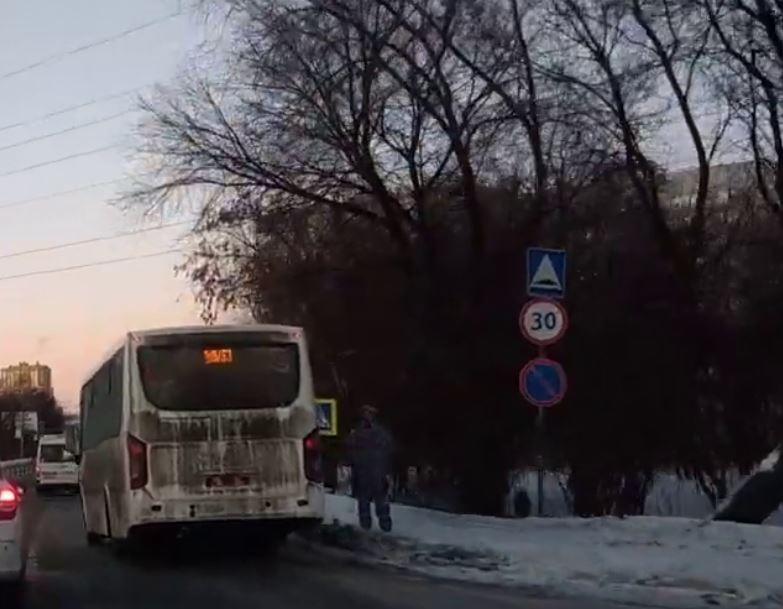30 Km Hiz Siniri: (517, 296, 564, 344)
